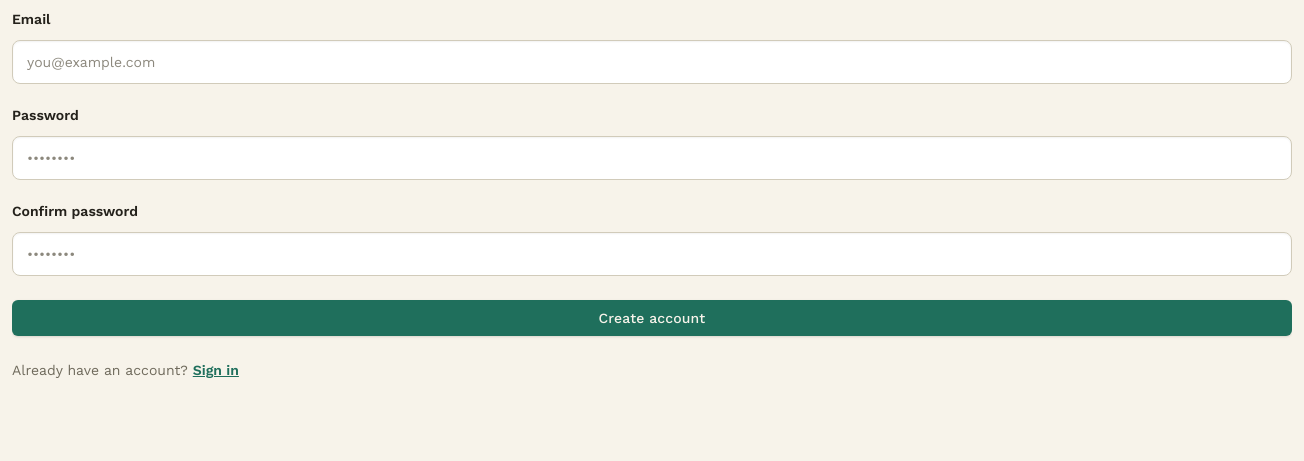
Test: RegisterForm › blocks submission when password is too short
Type "test@example.com" into the field labelled "Email".
click(652, 62); type("test@example.com")  # box [12,40,1292,84]
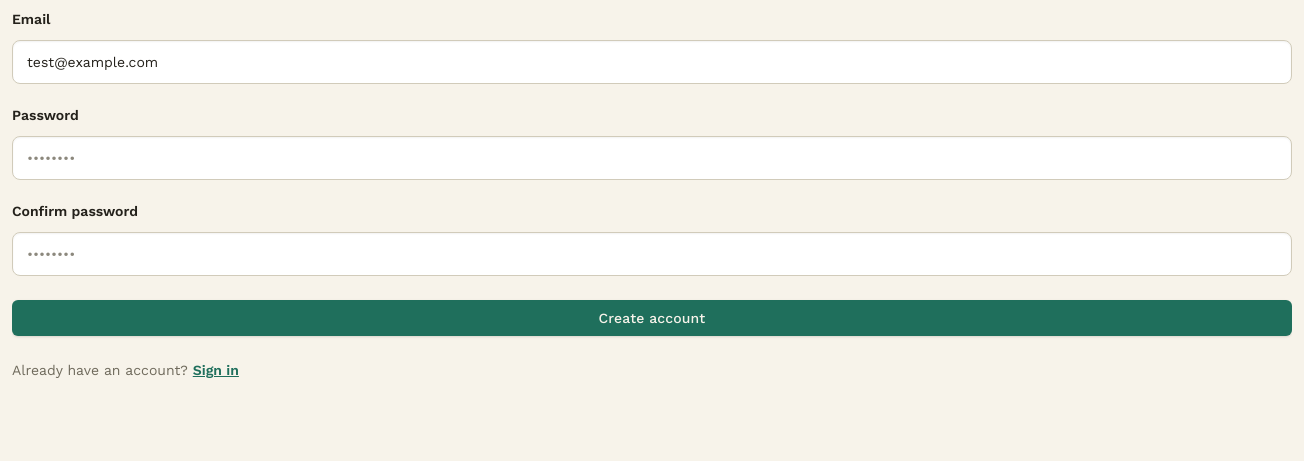
Type "short" into the password field labelled "Password".
click(652, 158); type("short")  # box [12,136,1292,180]
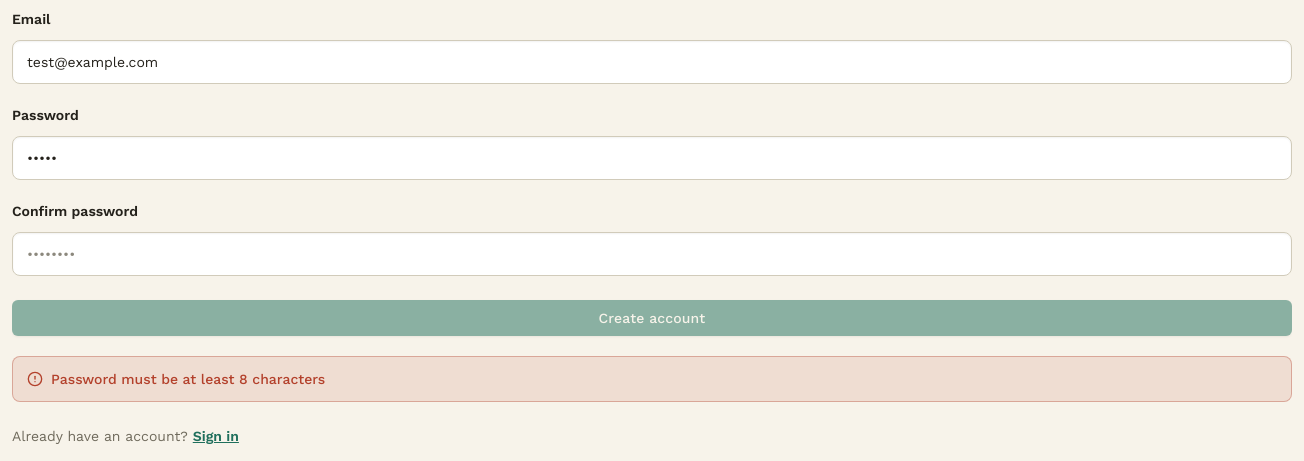
Expected: the text "Password must be at least 8 characters" is shown, [51,369,325,389]
Expected: the button "Create account" is disabled, [12,300,1292,336]
